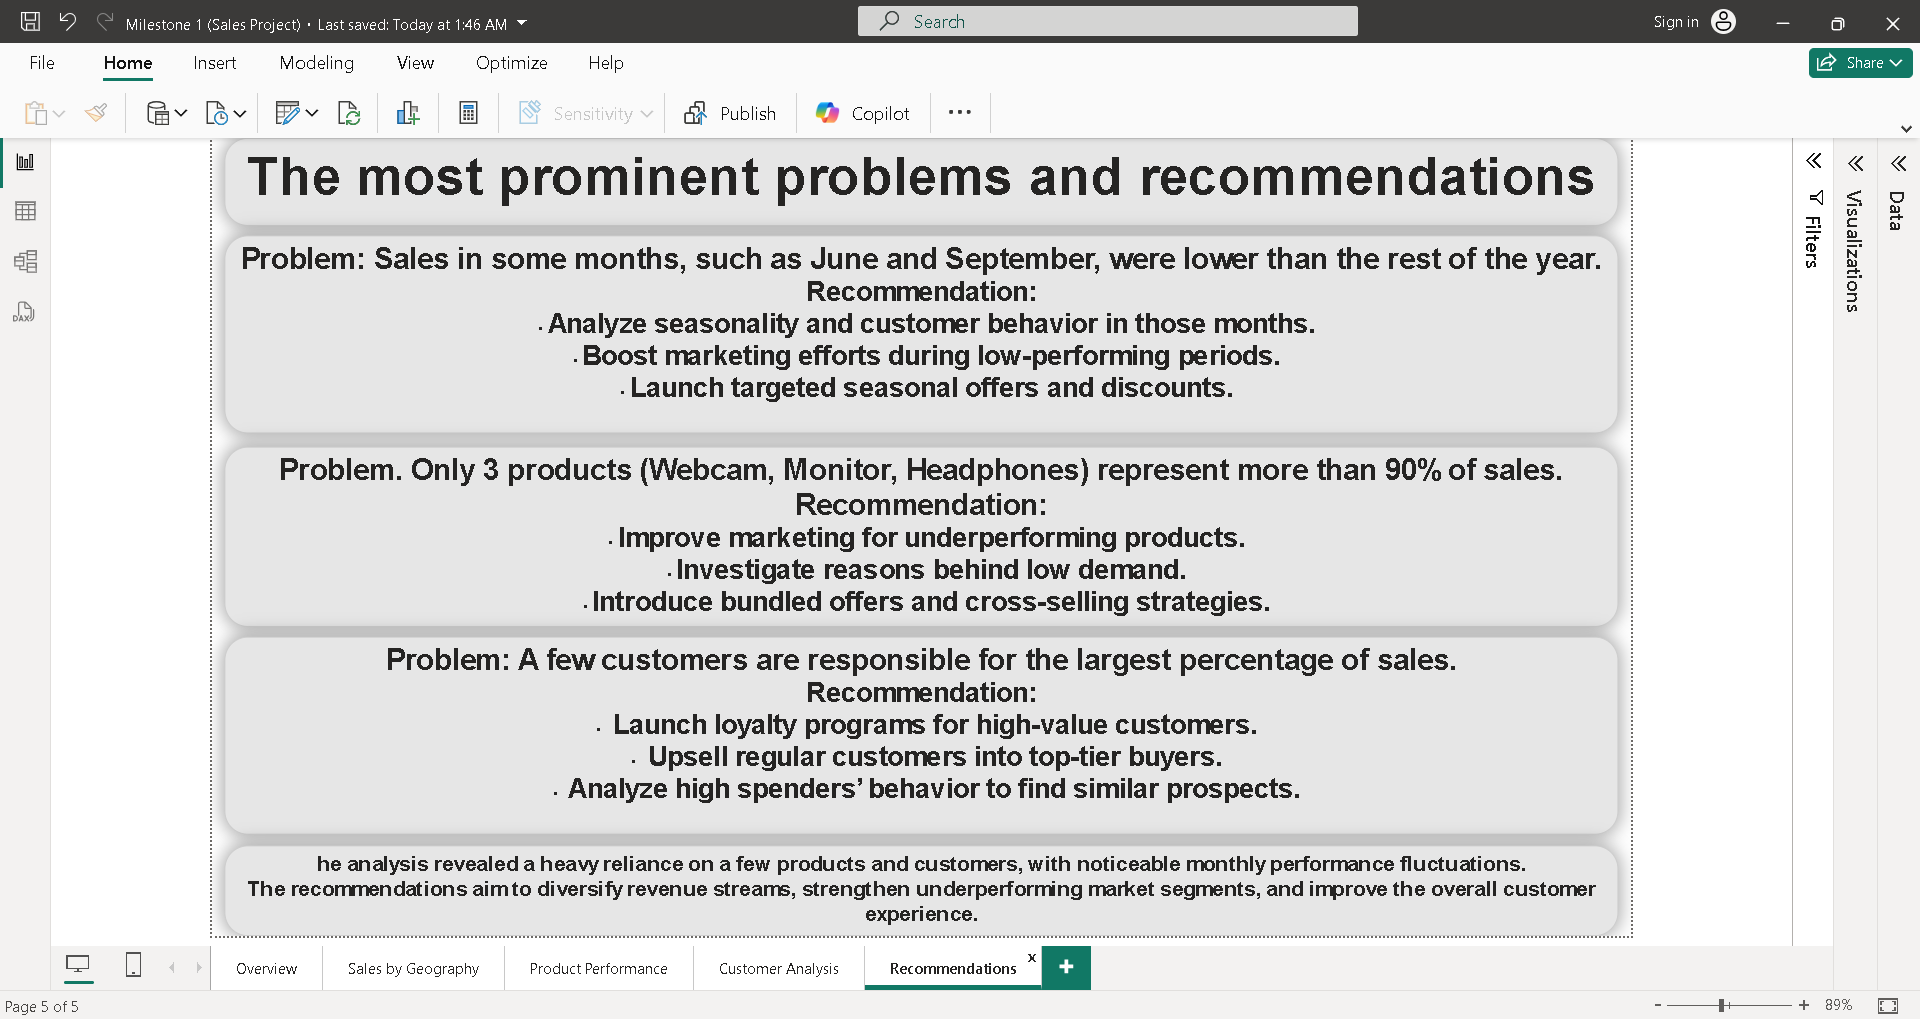

What the dashboard file says about the page in this screenshot:
{"tool":"powerbi","page":{"name":"Recommendations","canvas":[1280,720],"ordinal":4},"visuals":[{"type":"textbox","box":[11,0,1257.1,79.5],"z":0},{"type":"textbox","box":[11,88,1257.1,178.5],"z":1000},{"type":"textbox","box":[11,278.8,1257.1,162.6],"z":2000},{"type":"textbox","box":[11,450,1257.1,178.5],"z":3000},{"type":"textbox","box":[11,638.3,1257.1,81.9],"z":4000}]}

Visuals, with their boxes on the page's 1280x720 design canvas (x1, y1, x2, y2). These are canvas units, not pixel positions in the 1920x1019 screenshot, which may show the page scaled, cropped or inside an application window:
textbox: x1=11 y1=0 x2=1268 y2=80
textbox: x1=11 y1=88 x2=1268 y2=266
textbox: x1=11 y1=279 x2=1268 y2=441
textbox: x1=11 y1=450 x2=1268 y2=628
textbox: x1=11 y1=638 x2=1268 y2=720
